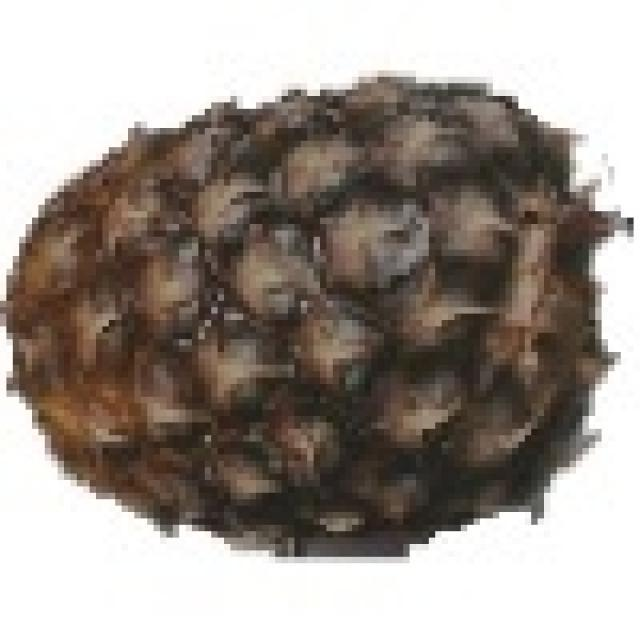pineapple: (0, 70, 608, 544)
